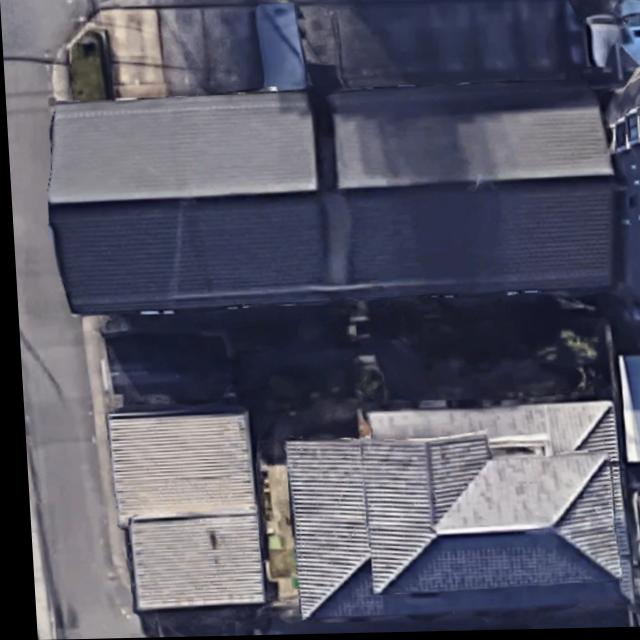Batiment: (47, 87, 612, 314), (280, 404, 625, 618), (103, 414, 256, 611)
